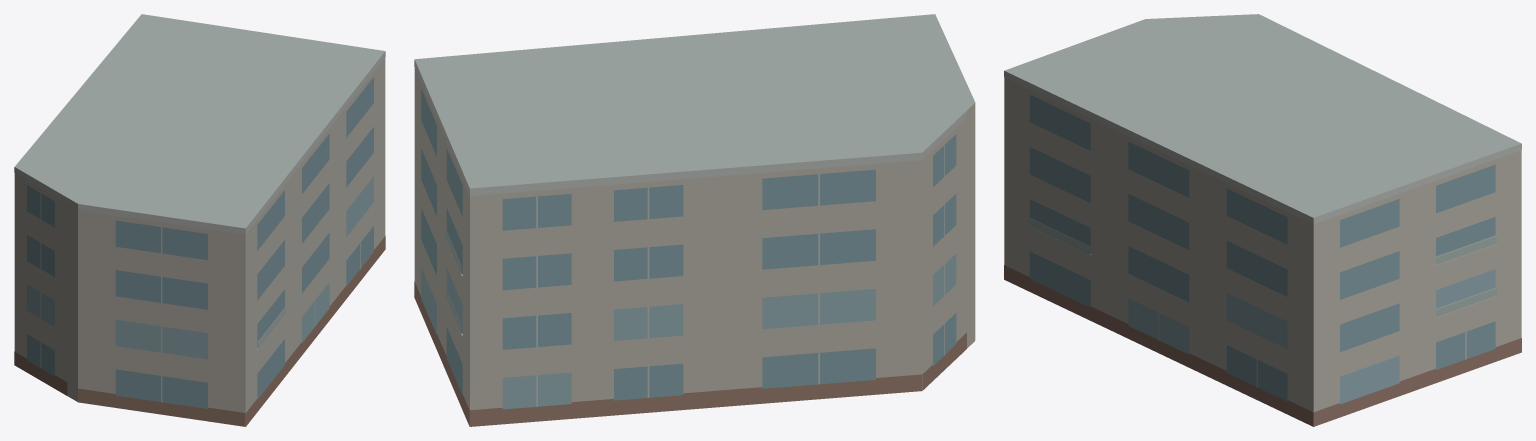
The model's file is survey-upis-32738106.glb.
3 renders of one model, left to right at view 1: azimuth 30°, elevation 25°; view 2: azimuth 150°, elevation 25°; view 3: azimuth 270°, elevation 25°, orthographic. The views are drawn at different scales.
Parts seen in each view (by area): view 1: survey-upis-32738106.tmp; view 2: survey-upis-32738106.tmp; view 3: survey-upis-32738106.tmp.
Part boxes in pixels (<box>): survey-upis-32738106.tmp: <box>14,14,385,426</box>; survey-upis-32738106.tmp: <box>414,14,975,426</box>; survey-upis-32738106.tmp: <box>1004,14,1521,426</box>.
Bounding box in the file's own units: 16.33 × 7.8 × 17.52.
